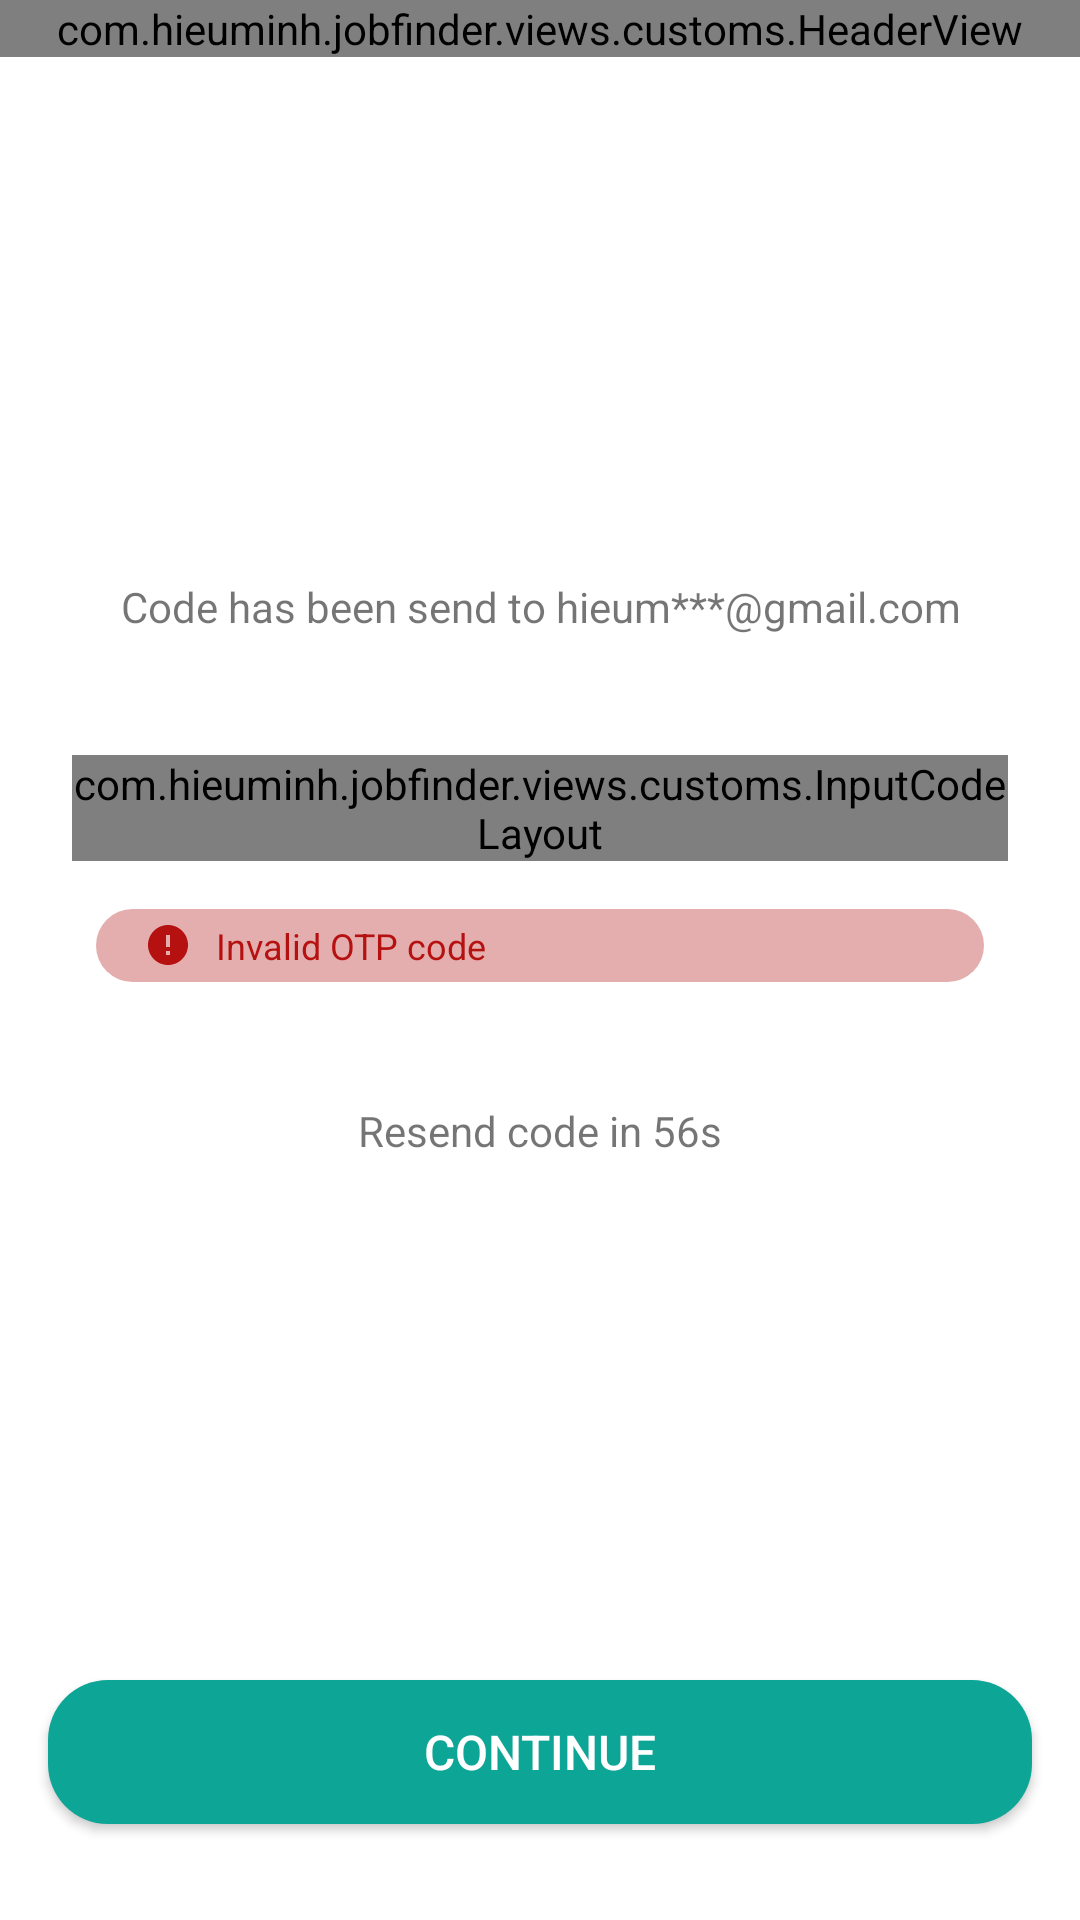

Where icons sit on this 1080 x 1920 app screen, as BBox(x1, y1, x2, y2):
error: BBox(148, 925, 188, 965)
